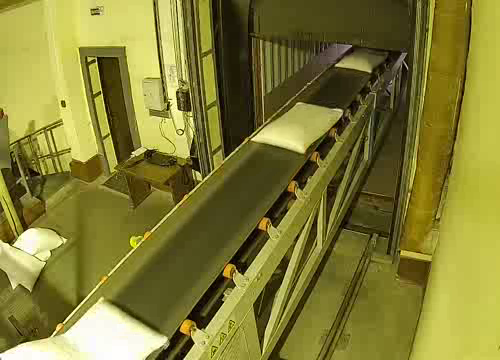bag: (0, 294, 173, 360), (248, 99, 345, 160), (333, 46, 388, 75)
